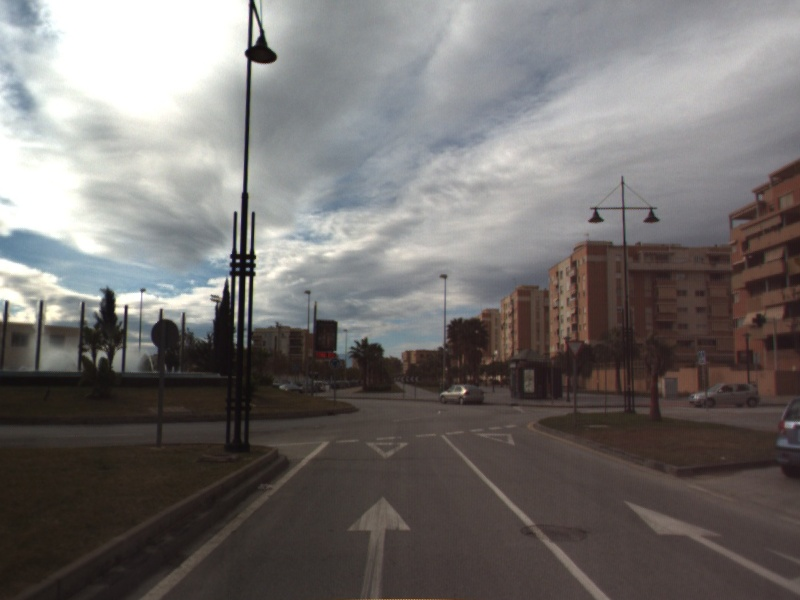STRAIGHT: (621, 498, 800, 596), (344, 494, 413, 600)
